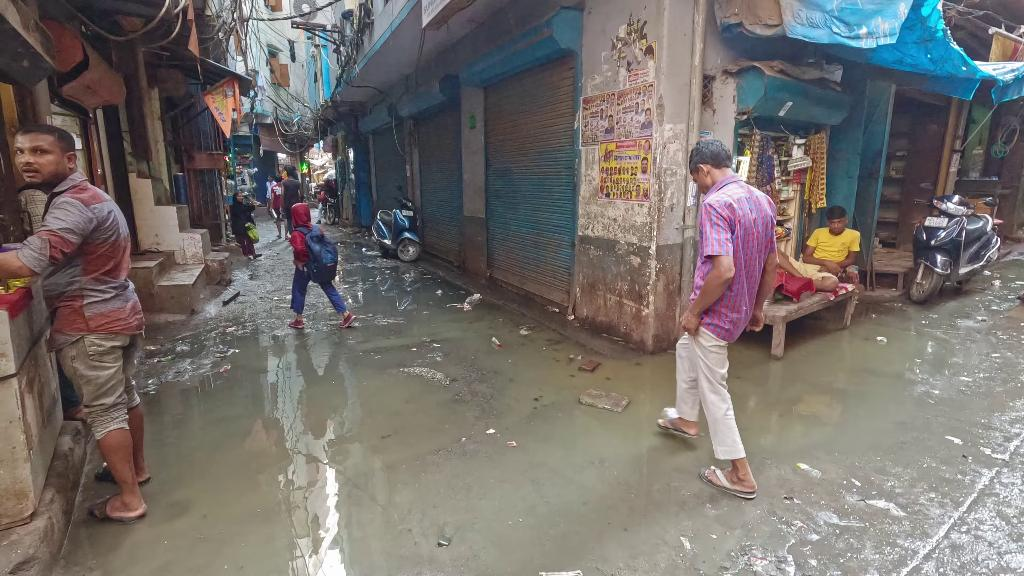garbage: (458, 293, 485, 311), (176, 342, 191, 352), (491, 337, 503, 349), (876, 336, 887, 344), (775, 178, 782, 188), (818, 201, 827, 208), (819, 186, 826, 192)
